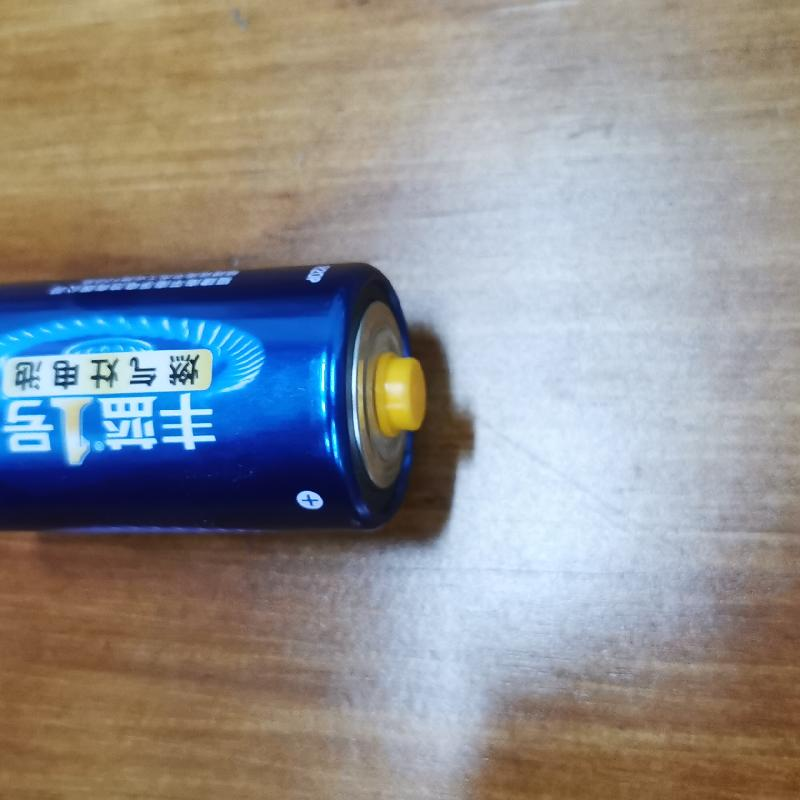battery: (4, 260, 425, 537)
